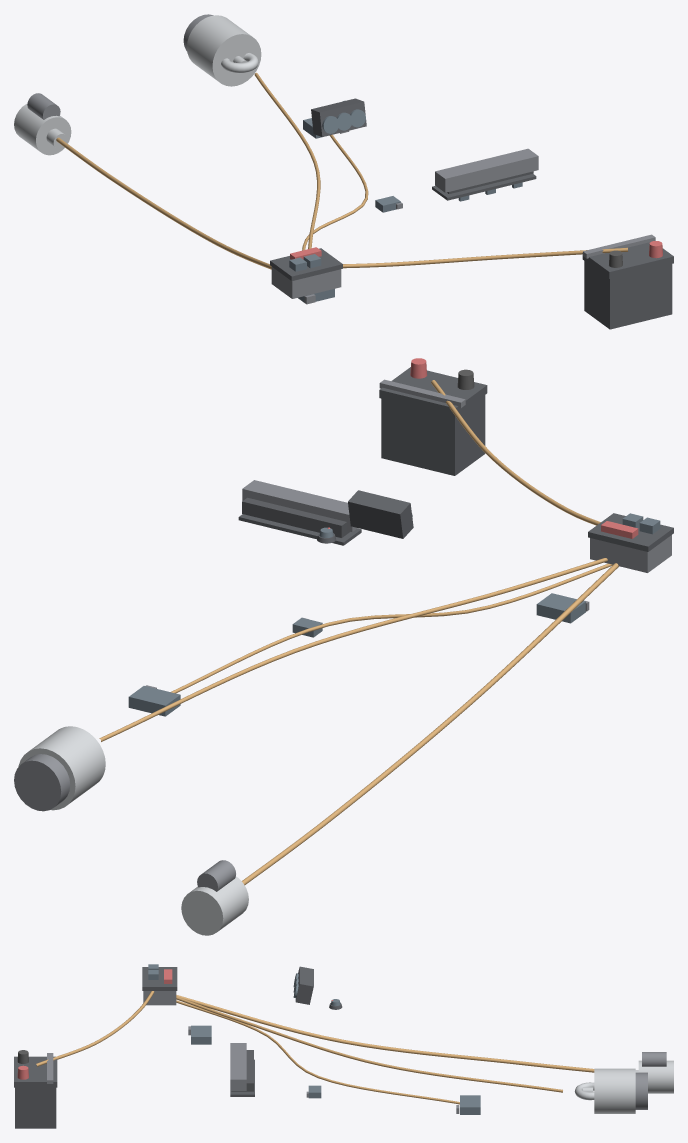
File: elec.glb
The picture shows the model from 3 angles, top to bottom: view 1: azimuth 30°, elevation 25°; view 2: azimuth 150°, elevation 25°; view 3: azimuth 270°, elevation 25°; orthographic projection. The views are drawn at different scales.
Visible parts, largest first — view 1: body (×2), case, lid (×2), cabinFilterSlot, housing (×2), harnessJunctionToStarter, harnessBatteryToJunction, harnessAlternatorToJunction, cabinFilterCover, solenoid, harnessJunctionToModules, holdDown (+1 smaller); view 2: case, housing (×4), body (×2), lid (×2), harnessJunctionToStarter, harnessAlternatorToJunction, rearHousing, cabinFilterSlot, harnessJunctionToModules, frame, harnessBatteryToJunction, cabinFilterCover; view 3: body (×2), housing (×4), harnessJunctionToStarter, case, lid (×2), harnessAlternatorToJunction, harnessJunctionToModules, cabinFilterSlot, harnessBatteryToJunction, rearHousing, solenoid, frame (+1 smaller).
Boxes of the visible parts, <box> form: body (×2): <box>14,15,261,155</box>; case: <box>584,261,672,329</box>; lid (×2): <box>270,242,673,280</box>; cabinFilterSlot: <box>435,148,538,192</box>; housing (×2): <box>271,98,366,298</box>; harnessJunctionToStarter: <box>56,137,271,269</box>; harnessBatteryToJunction: <box>343,247,627,268</box>; harnessAlternatorToJunction: <box>254,72,320,248</box>; cabinFilterCover: <box>432,174,536,200</box>; solenoid: <box>27,93,60,119</box>; harnessJunctionToModules: <box>302,134,368,250</box>; holdDown: <box>583,234,655,258</box>; case: <box>381,395,485,475</box>; housing (×4): <box>128,490,671,716</box>; body (×2): <box>18,726,248,935</box>; lid (×2): <box>379,367,673,551</box>; harnessJunctionToStarter: <box>242,563,618,885</box>; harnessAlternatorToJunction: <box>99,558,607,741</box>; rearHousing: <box>14,754,70,811</box>; cabinFilterSlot: <box>242,480,357,531</box>; harnessJunctionToModules: <box>170,563,612,693</box>; frame: <box>242,497,350,537</box>; harnessBatteryToJunction: <box>431,380,600,525</box>; cabinFilterCover: <box>238,514,361,545</box>; body (×2): <box>594,1060,673,1113</box>; housing (×4): <box>143,966,480,1114</box>; harnessJunctionToStarter: <box>176,995,594,1072</box>; case: <box>15,1087,56,1128</box>; lid (×2): <box>14,967,177,1087</box>; harnessAlternatorToJunction: <box>176,996,562,1092</box>; harnessJunctionToModules: <box>176,1000,459,1104</box>; cabinFilterSlot: <box>230,1043,246,1090</box>; harnessBatteryToJunction: <box>36,991,154,1066</box>; rearHousing: <box>635,1072,647,1109</box>; solenoid: <box>642,1052,666,1066</box>; frame: <box>231,1050,253,1091</box>.
Bounding box in the file's own units: 1.37 × 0.786 × 3.19.
